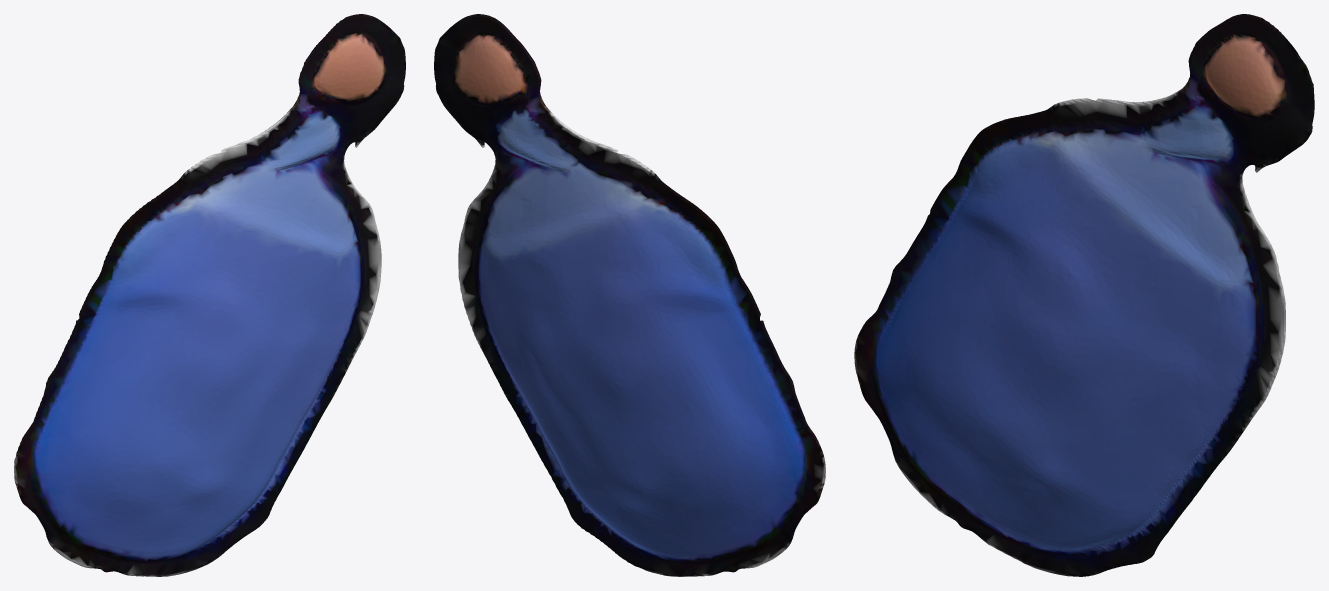
File: water_sapphire.glb
3 views of the same model, side by side, from view 1: azimuth 30°, elevation 25°; view 2: azimuth 150°, elevation 25°; view 3: azimuth 330°, elevation 25° (orthographic). The views are drawn at different scales.
Visible parts, largest first — view 1: geometry_0; view 2: geometry_0; view 3: geometry_0.
Boxes of the visible parts, x1,y1,x2,y2 form: geometry_0: (14,14,405,576); geometry_0: (434,14,825,576); geometry_0: (854,14,1314,576).
Bounding box in the file's own units: 0.4375 × 0.5514 × 0.067.
